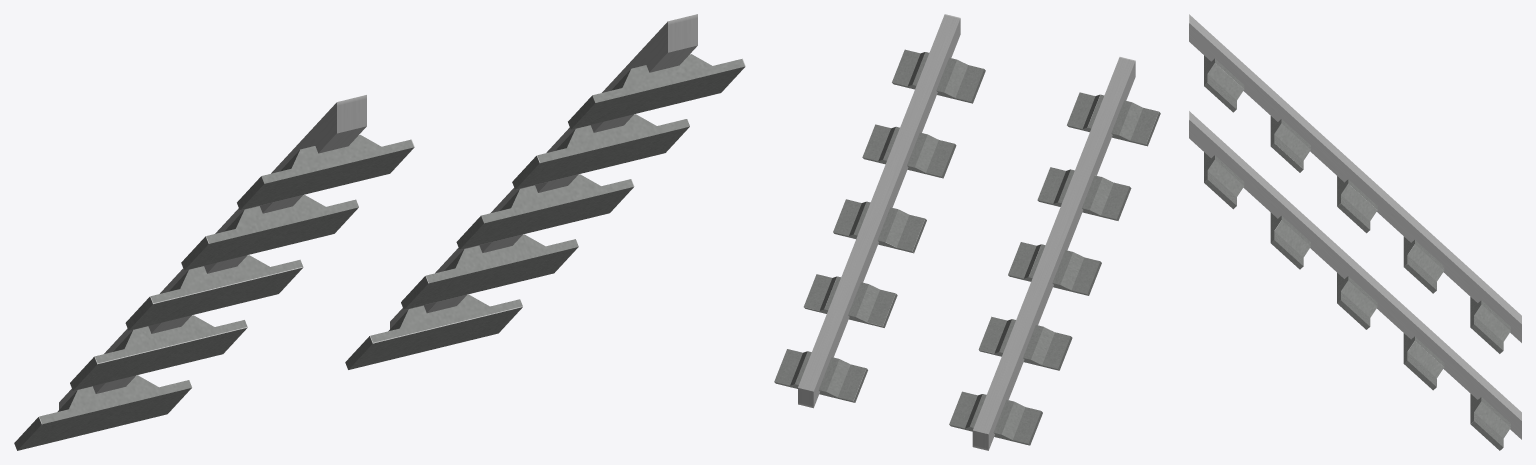
Rendered from rail_ns_slope.obj.
The picture shows the model from 3 angles, left to right: view 1: azimuth 30°, elevation 25°; view 2: azimuth 150°, elevation 25°; view 3: azimuth 270°, elevation 25°; orthographic projection. The views are drawn at different scales.
Visible parts, largest first — view 1: b5, b4, b3, b2, b1, r2, r1; view 2: r2, r1, b2, b1, b3, b4, b5; view 3: r1, r2, b4, b2, b5, b3, b1.
Part boxes in pixels (x1,y1,x2,y2): b5: (14,294,522,450); b4: (70,234,578,390); b3: (125,174,634,330); b2: (181,114,689,270); b1: (237,54,745,210); r2: (59,95,366,409); r1: (390,14,697,328); r2: (972,57,1135,450); r1: (798,14,960,408); b2: (862,124,1131,220); b1: (892,49,1160,146); b3: (833,199,1101,295); b4: (803,274,1072,370); b5: (774,349,1042,445); r1: (1189,111,1521,439); r2: (1189,14,1521,342); b4: (1403,236,1444,390); b2: (1270,116,1310,269); b5: (1470,297,1510,450); b3: (1337,176,1377,329); b1: (1204,55,1244,209).
Size of the model in its own units: 1 by 1.06 by 1.
